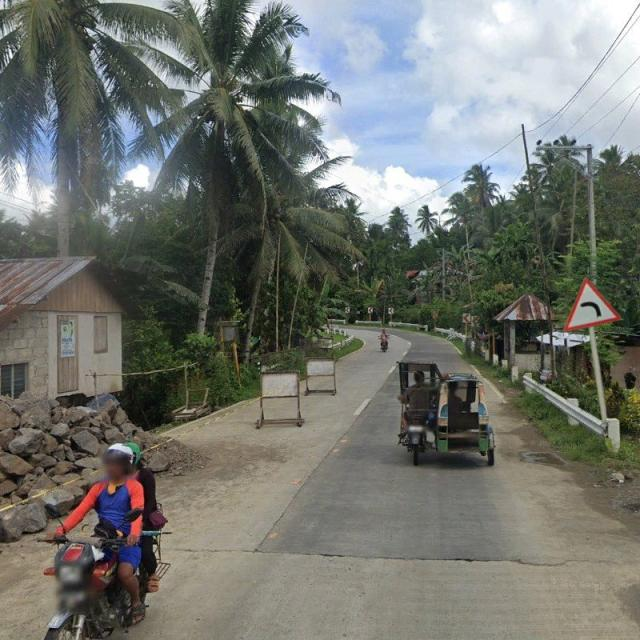warn_left_curve: (562, 278, 622, 334)
